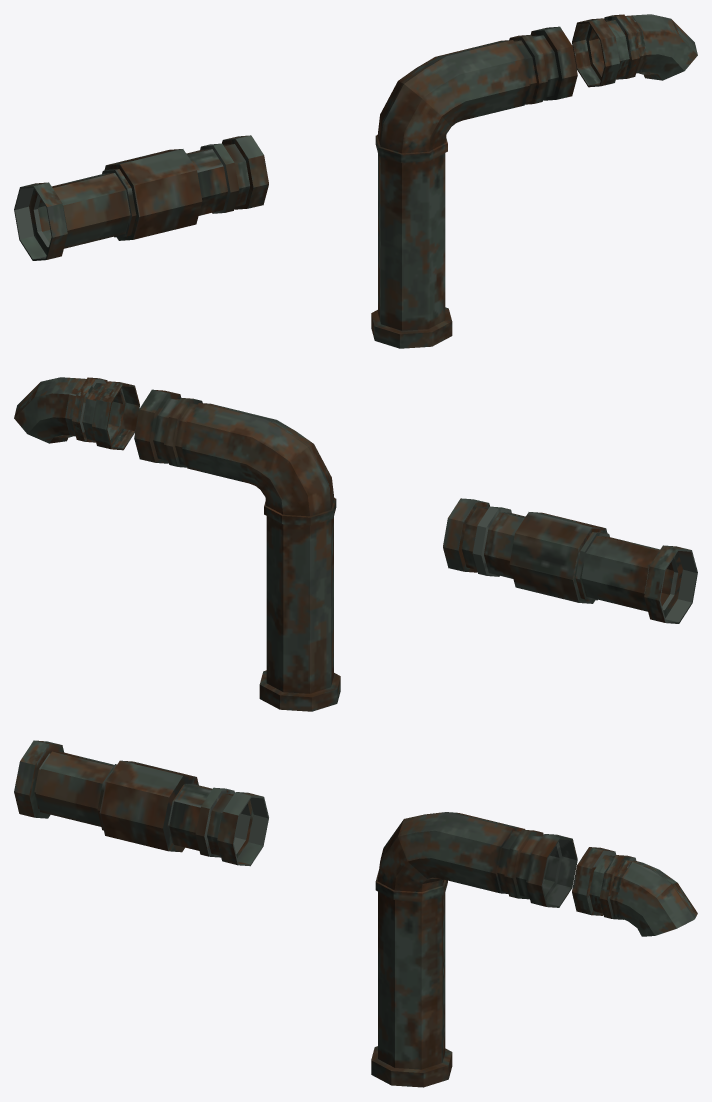
The model's file is 006tubes.fbx.
3 views of the same model, one above another, from view 1: azimuth 30°, elevation 25°; view 2: azimuth 150°, elevation 25°; view 3: azimuth 330°, elevation 25° (orthographic).
Parts seen in each view (by area): view 1: Cylinder.004, Cylinder.006, Cylinder.005; view 2: Cylinder.004, Cylinder.006, Cylinder.005; view 3: Cylinder.004, Cylinder.006, Cylinder.005.
Part boxes in pixels (left/top/right/bottom): Cylinder.004: left=371, top=26, right=577, bottom=348; Cylinder.006: left=14, top=135, right=268, bottom=260; Cylinder.005: left=572, top=14, right=697, bottom=87; Cylinder.004: left=134, top=389, right=340, bottom=711; Cylinder.006: left=443, top=498, right=697, bottom=623; Cylinder.005: left=14, top=377, right=139, bottom=450; Cylinder.004: left=371, top=812, right=577, bottom=1087; Cylinder.006: left=14, top=740, right=268, bottom=866; Cylinder.005: left=572, top=847, right=697, bottom=936.
Bounding box in the file's own units: 3.16 × 1.23 × 0.3368.
